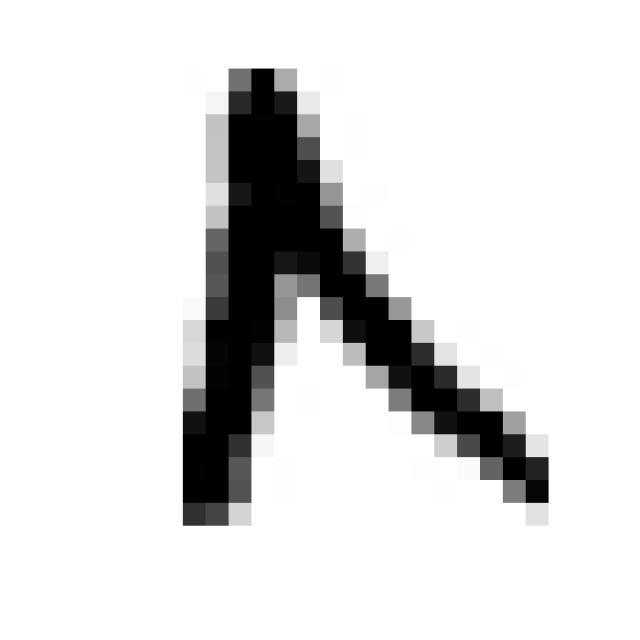8 -eight-: (142, 32, 570, 546)
